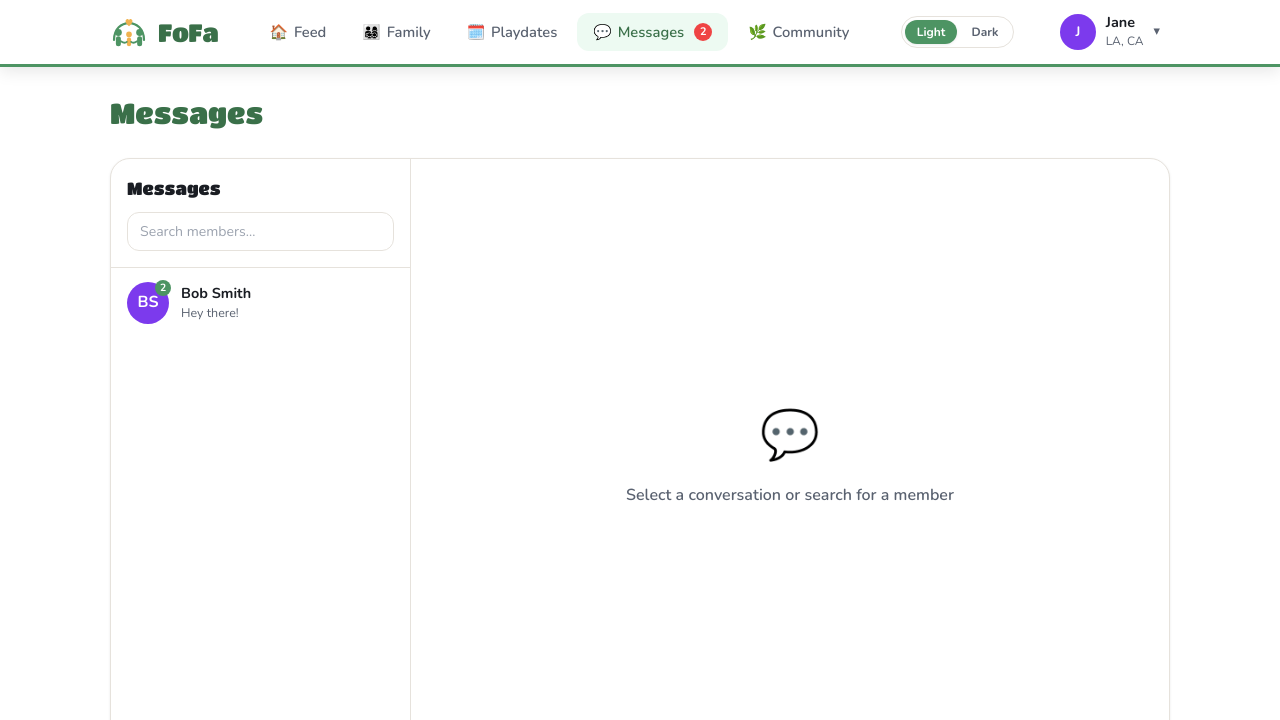
Test: UC-05: Direct Messaging › can search for members to start a conversation
Type "Bob" into the dropdown with placeholder "Search members…". click: (261, 232)
box: [127,212,394,251]
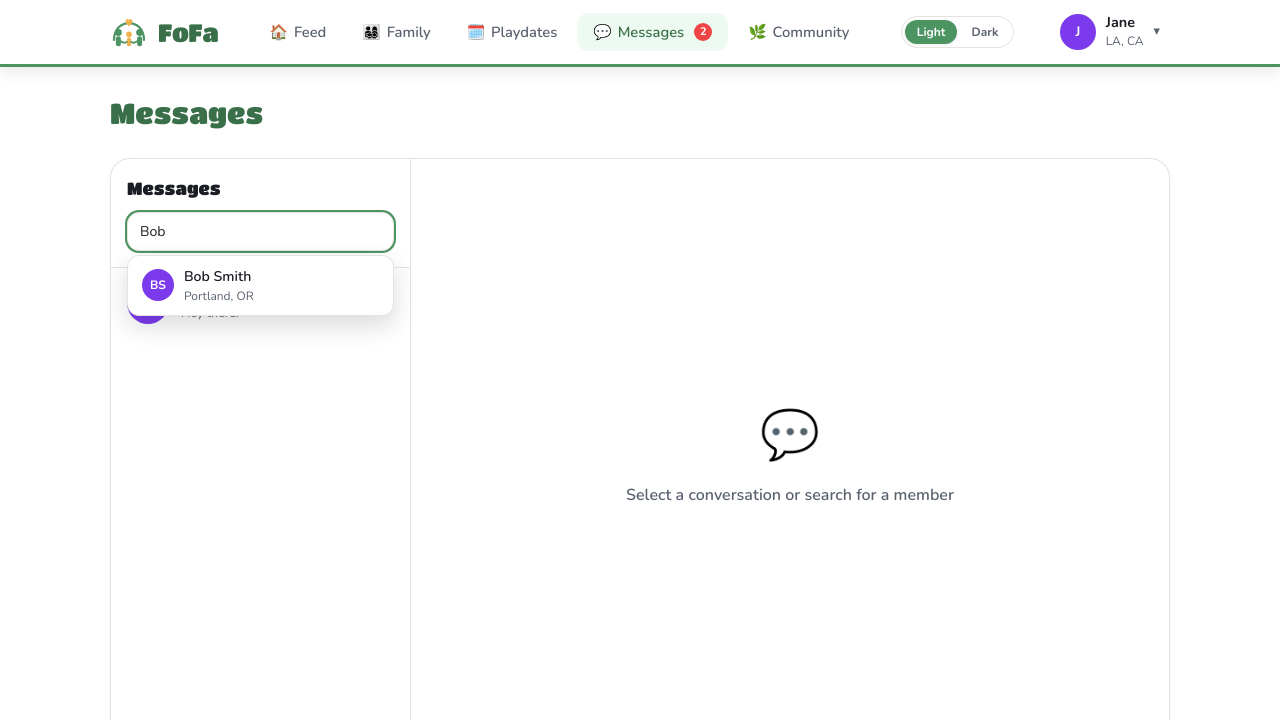
Expected: the button "BS Bob Smith Portland, OR" is shown, [128,256,393,315]
